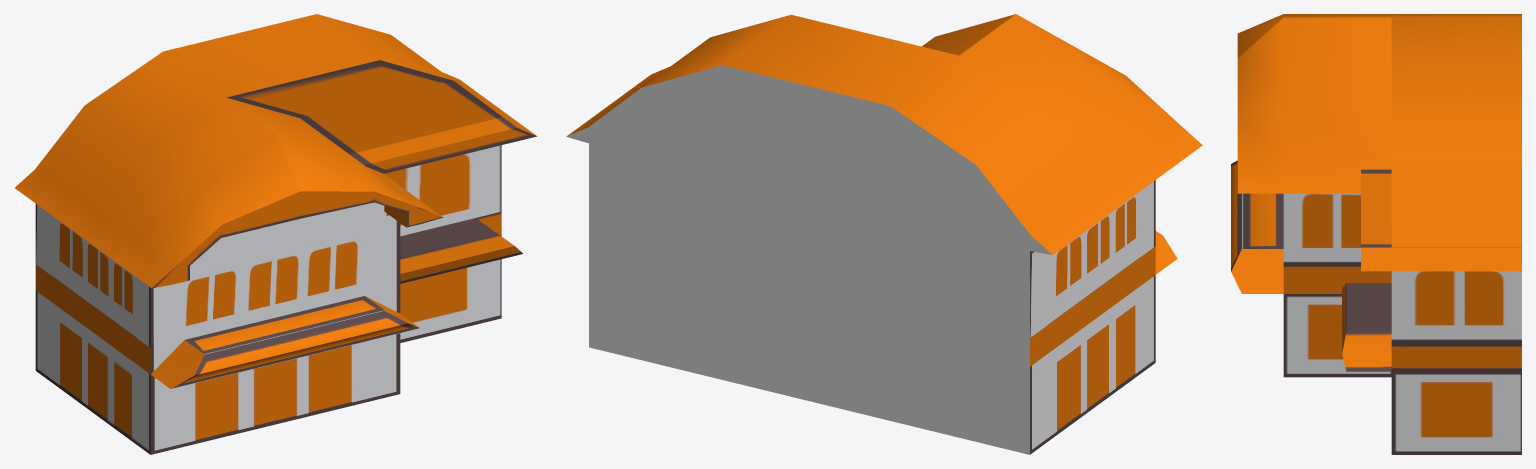
The model's file is Mali.fbx.
The picture shows the model from 3 angles, left to right: view 1: azimuth 30°, elevation 25°; view 2: azimuth 150°, elevation 25°; view 3: azimuth 270°, elevation 25°; orthographic projection. The views are drawn at different scales.
Visible parts, largest first — view 1: polySurface6; view 2: polySurface6; view 3: polySurface6.
Boxes of the visible parts, <box> form: polySurface6: <box>15,14,537,454</box>; polySurface6: <box>566,14,1202,454</box>; polySurface6: <box>1231,14,1521,454</box>.
Size of the model in its own units: 6.32 by 3.91 by 3.45.
